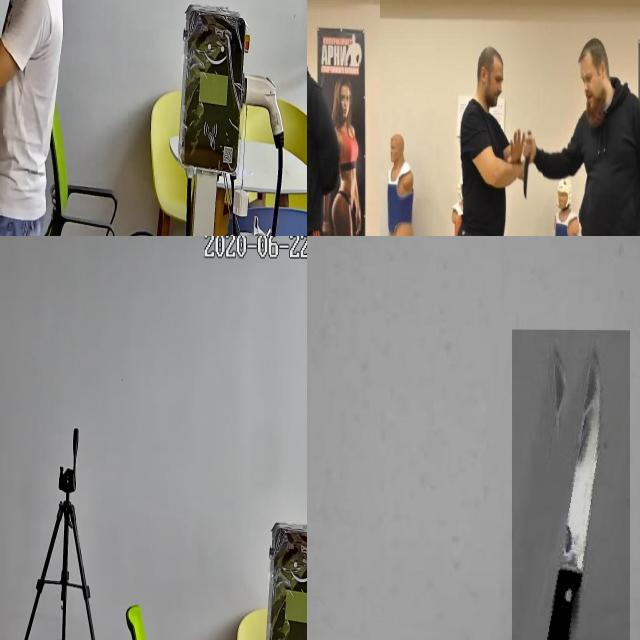-: (512, 328, 629, 640), (307, 0, 451, 153), (521, 127, 533, 200), (307, 125, 313, 197), (524, 0, 535, 36)
gun-knife-thesis - v11 Yolov5 augmented: (0, 0, 27, 62), (0, 359, 21, 432)
